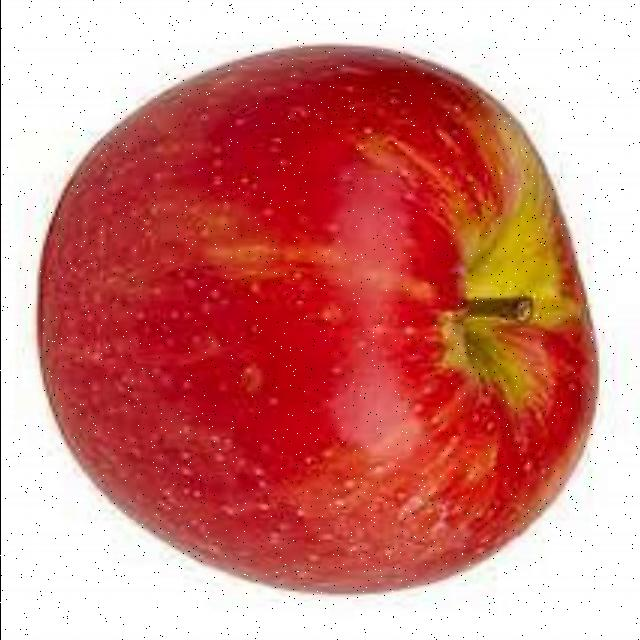HEALTHY: (24, 33, 612, 596)
